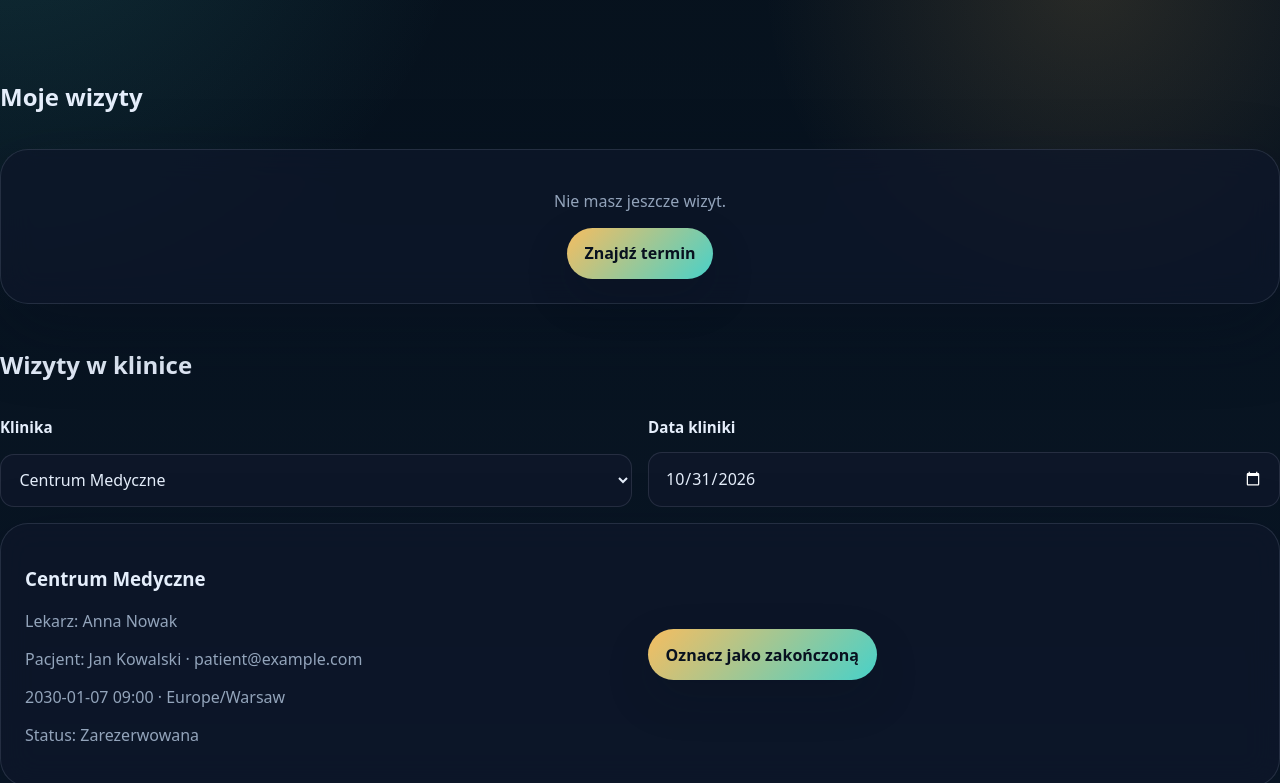
Test case: Appointments page › shows clinic appointments to staff and marks an ended visit completed
The image size is (1280, 783).
(page scrolled)
Check: the text "Pacjent: Jan Kowalski · patient@example.com" is shown, box x1=25 y1=648 x2=362 y2=670
Click the button "Oznacz jako zakończoną": coordinates (762, 655) x1=648 y1=629 x2=877 y2=680
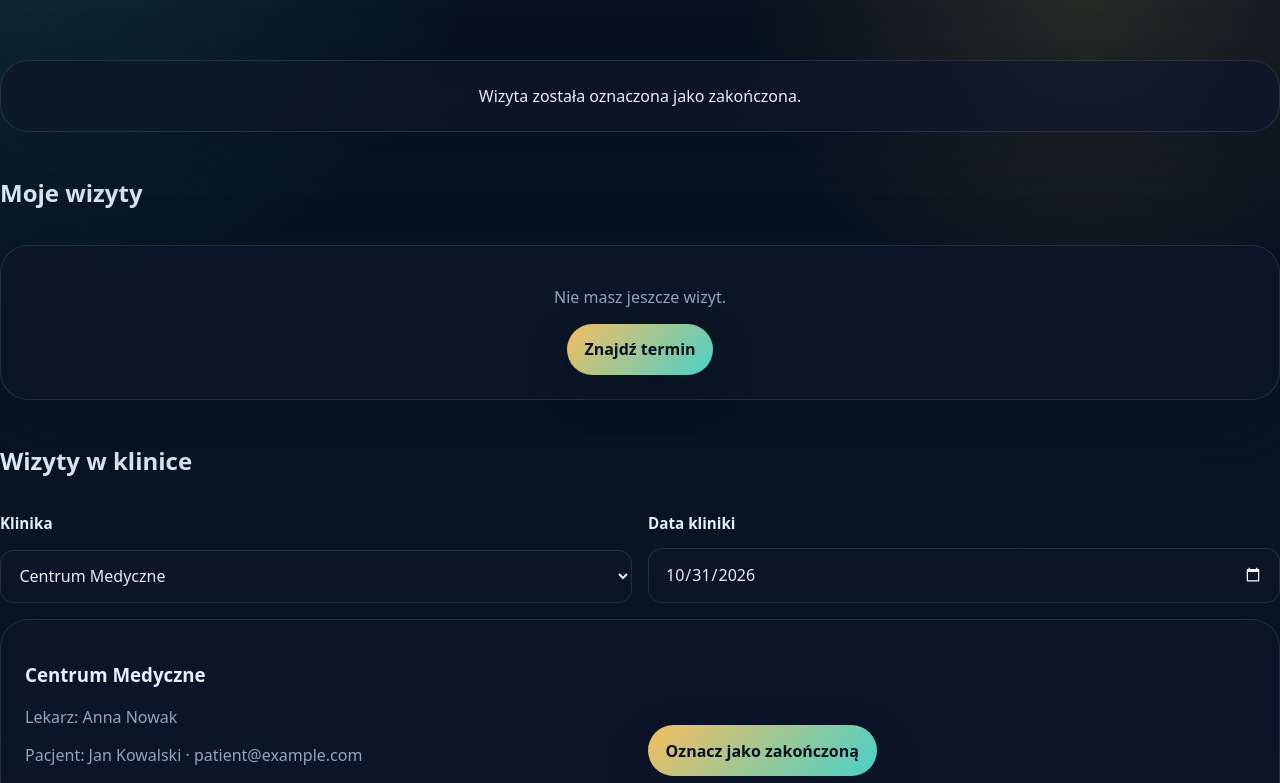
Check: the message reads "Wizyta została oznaczona jako zakończona.", box x1=479 y1=85 x2=801 y2=107
